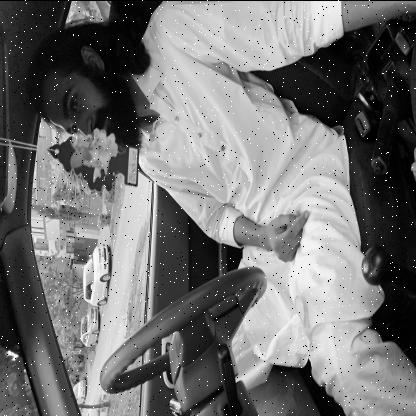no_seatbelt: (29, 37, 295, 186)
